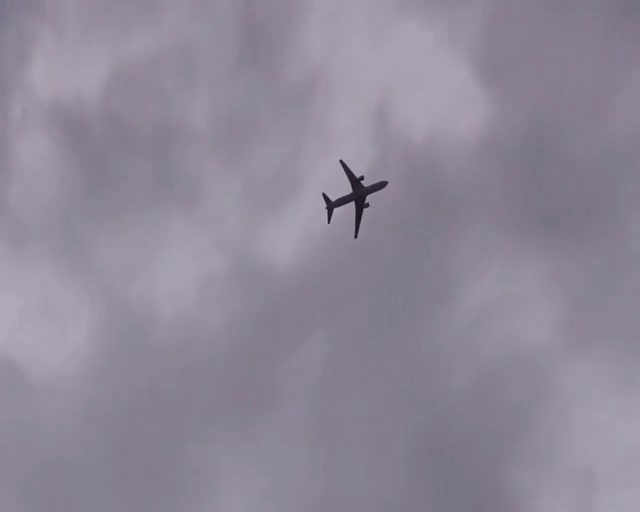AIRPLANE: (322, 158, 388, 240)
